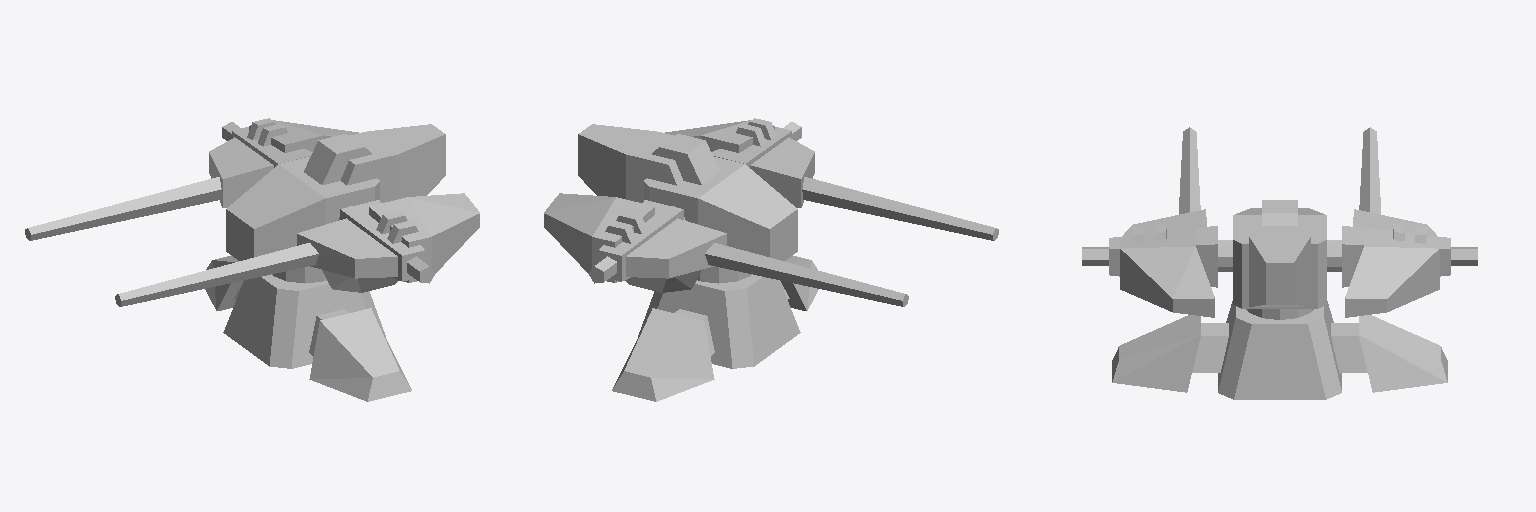
The model's file is dzialko.obj.
3 views of the same model, side by side, from view 1: azimuth 30°, elevation 25°; view 2: azimuth 150°, elevation 25°; view 3: azimuth 270°, elevation 25° (orthographic).
Parts seen in each view (by area): view 1: sci_fi_turret_4; view 2: sci_fi_turret_4; view 3: sci_fi_turret_4.
Part boxes in pixels (bbox=[...]): sci_fi_turret_4: bbox=[25, 118, 479, 401]; sci_fi_turret_4: bbox=[544, 118, 998, 401]; sci_fi_turret_4: bbox=[1082, 127, 1477, 399].
Bounding box in the file's own units: 2.8 × 1.33 × 2.62.